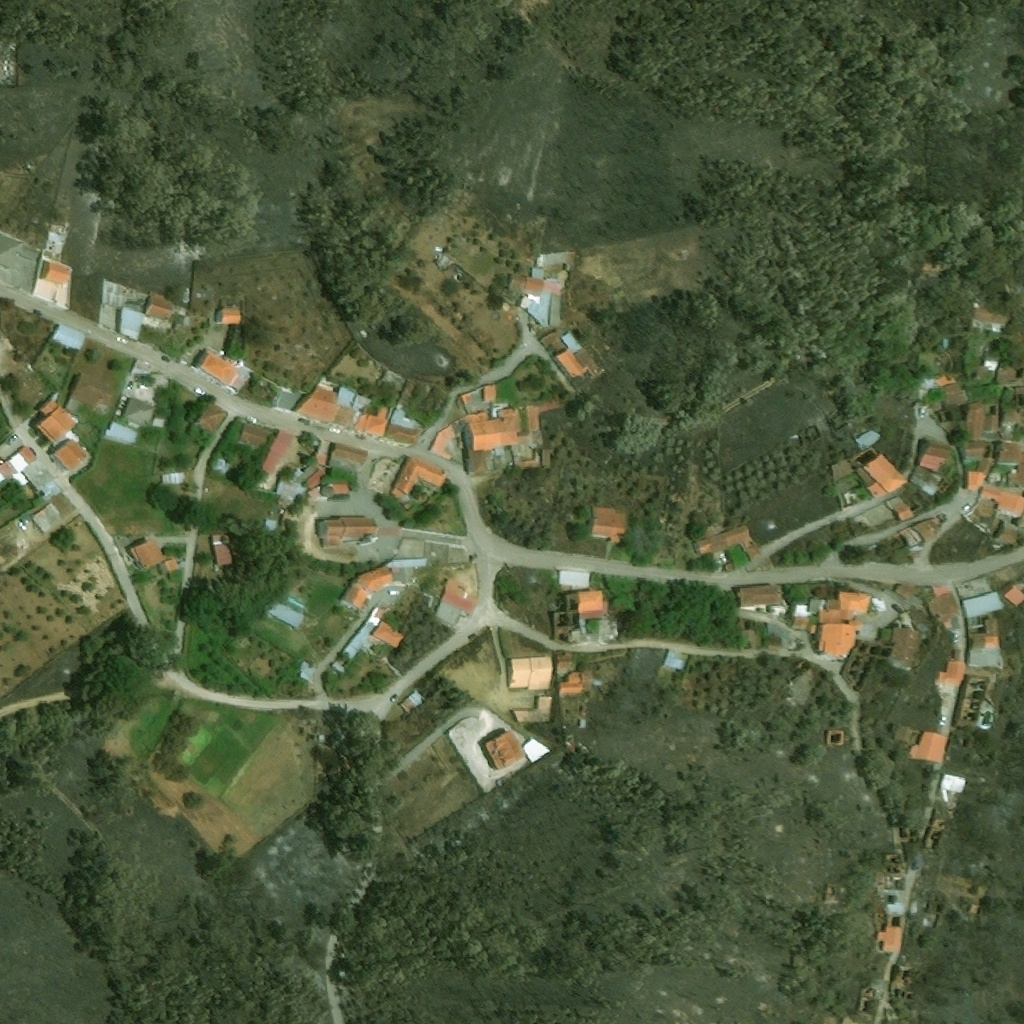0 no-damage: (461, 408, 533, 475), (331, 603, 387, 674), (508, 267, 562, 327), (695, 524, 761, 561), (342, 566, 394, 611), (393, 458, 448, 500), (67, 374, 116, 412), (481, 730, 525, 772), (320, 517, 379, 548), (37, 399, 78, 443), (982, 484, 1023, 527), (436, 580, 476, 623), (817, 592, 872, 623), (315, 440, 368, 472), (505, 656, 552, 692), (199, 351, 241, 389), (294, 390, 340, 424), (385, 404, 424, 444), (818, 619, 861, 655), (277, 463, 317, 501), (909, 729, 948, 767), (265, 596, 307, 631), (899, 517, 945, 547), (592, 505, 626, 543), (969, 301, 1016, 328), (924, 591, 961, 625), (430, 421, 462, 460), (350, 406, 390, 437), (194, 402, 230, 436), (526, 397, 561, 431), (932, 376, 968, 409), (967, 404, 1000, 439), (1, 444, 37, 476), (122, 394, 156, 427), (53, 439, 88, 471), (129, 538, 164, 570), (210, 531, 239, 569), (514, 697, 551, 726), (738, 585, 782, 609), (372, 618, 407, 648), (51, 325, 87, 353), (32, 503, 64, 534), (335, 385, 372, 411), (0, 230, 24, 269), (144, 293, 176, 322), (969, 636, 1002, 664), (920, 443, 952, 471), (793, 599, 823, 628), (238, 423, 270, 450), (380, 367, 414, 392), (104, 422, 139, 446), (555, 350, 585, 378), (118, 309, 144, 341), (329, 405, 360, 430), (573, 348, 604, 373), (557, 674, 592, 696), (539, 331, 568, 357), (41, 261, 71, 286), (514, 449, 551, 469), (399, 689, 426, 716), (522, 740, 549, 764), (937, 661, 965, 684), (920, 473, 948, 496), (996, 441, 1023, 464), (394, 538, 425, 557), (561, 332, 584, 357), (283, 592, 308, 613), (856, 428, 882, 448), (537, 250, 571, 265), (391, 559, 427, 572), (306, 468, 327, 490), (549, 293, 563, 326), (996, 368, 1023, 385), (297, 659, 316, 682), (214, 309, 241, 324), (893, 501, 913, 521), (1004, 586, 1023, 607), (892, 583, 915, 600), (160, 557, 180, 576), (998, 526, 1018, 545), (131, 361, 152, 376), (212, 459, 230, 476), (49, 229, 68, 245), (969, 470, 986, 487), (555, 655, 572, 671), (169, 472, 189, 485), (483, 383, 497, 401), (1009, 465, 1023, 483), (982, 357, 999, 371), (459, 393, 475, 407), (977, 457, 990, 473), (1006, 410, 1023, 422), (308, 487, 323, 500), (333, 482, 349, 494), (152, 416, 167, 428), (722, 563, 734, 573), (22, 513, 32, 523)
2 major-damage: (831, 447, 908, 498), (962, 591, 1003, 629), (879, 904, 907, 954), (576, 591, 603, 620), (938, 774, 971, 797), (571, 629, 585, 645)
3 destroyed: (840, 628, 918, 682), (950, 673, 989, 729), (850, 985, 883, 1022), (924, 814, 951, 855), (880, 851, 908, 890), (890, 962, 916, 987), (553, 592, 578, 615), (436, 253, 454, 271), (827, 730, 844, 745), (358, 323, 374, 338), (565, 736, 575, 750)
4 un-classified: (0, 471, 8, 483)
